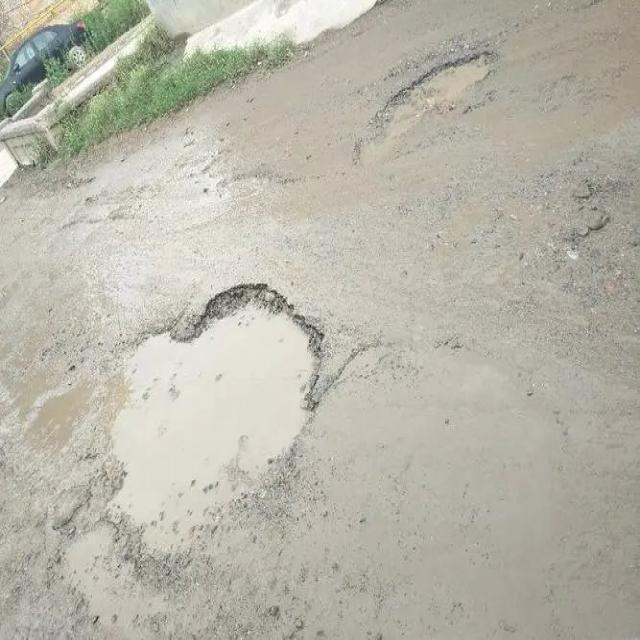pothole: (93, 283, 326, 562), (358, 53, 486, 171)
